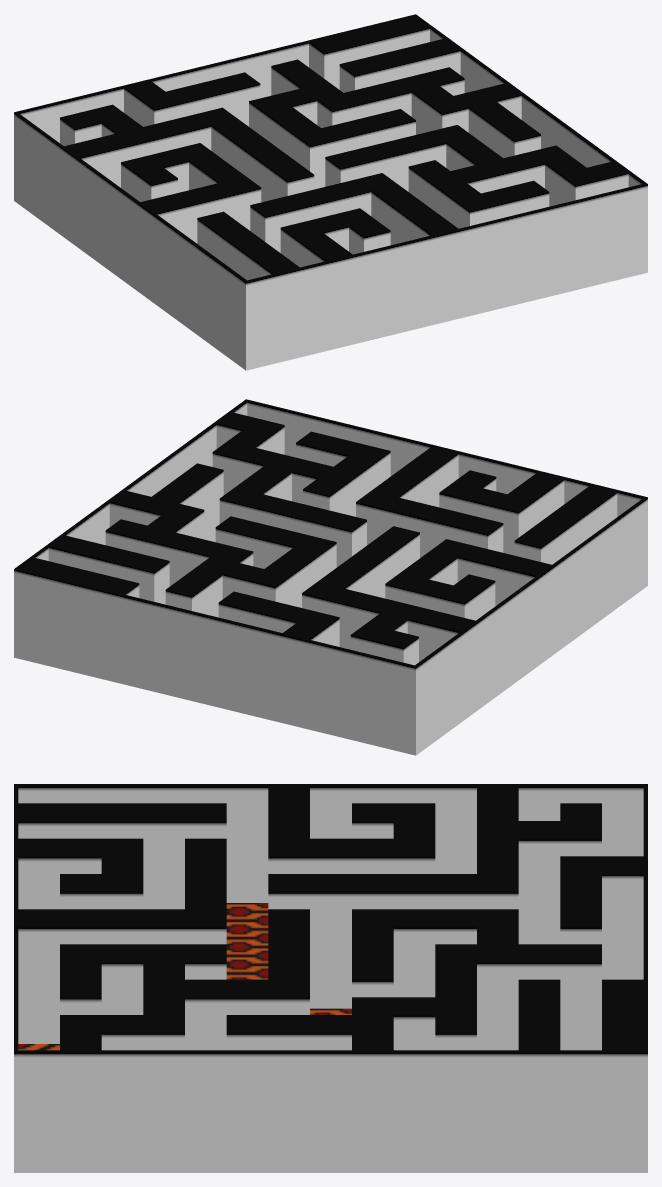
Rendered from Level01.fbx.
The picture shows the model from 3 angles, top to bottom: view 1: azimuth 30°, elevation 25°; view 2: azimuth 150°, elevation 25°; view 3: azimuth 270°, elevation 25°; orthographic projection. The views are drawn at different scales.
Visible parts, largest first — view 1: Union; view 2: Union; view 3: Union.
Part boxes in pixels (x1,y1,x2,y2): Union: (14, 14, 647, 370); Union: (14, 399, 647, 755); Union: (14, 784, 647, 1172).
Bounding box in the file's own units: 152 × 32 × 152.
